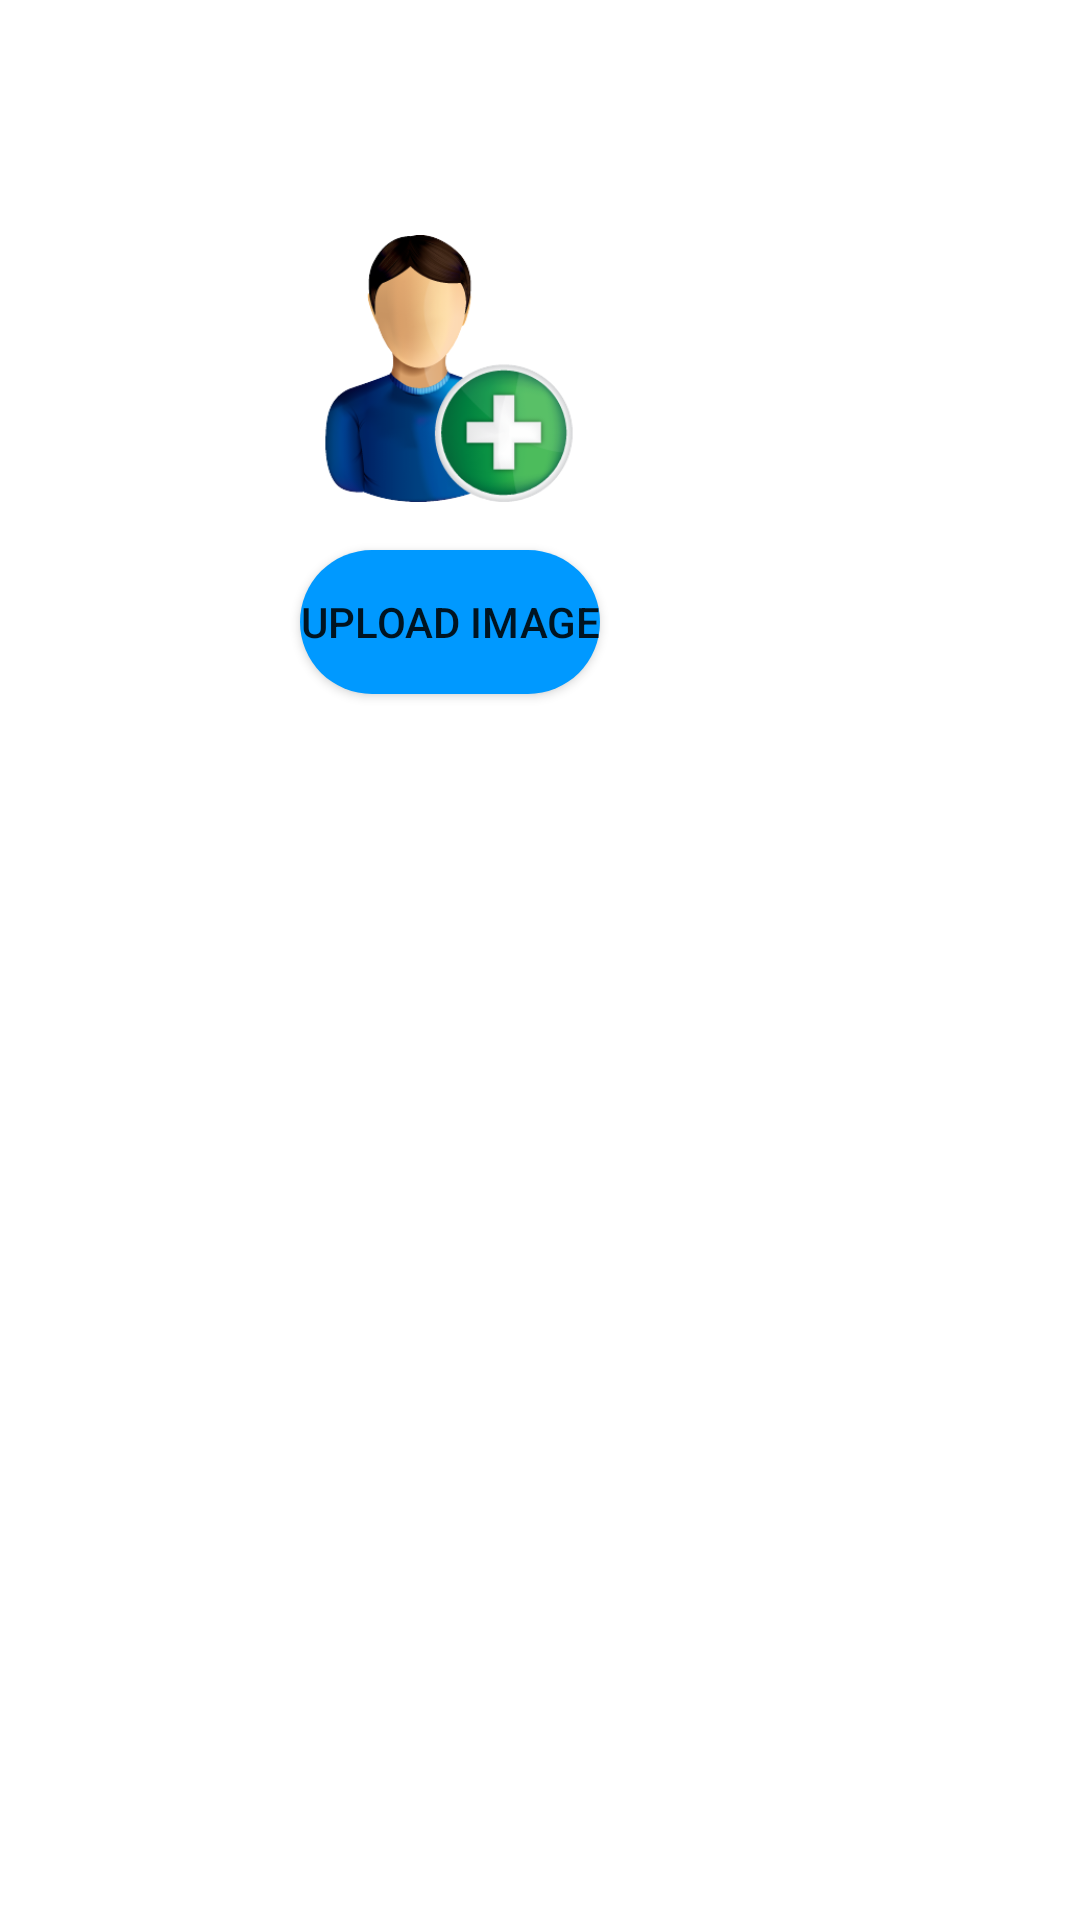

Where icons sit on this 1080px x 1920px app screen, as (x1, y1, x2, y2):
addiamge: (325, 235, 572, 502)
